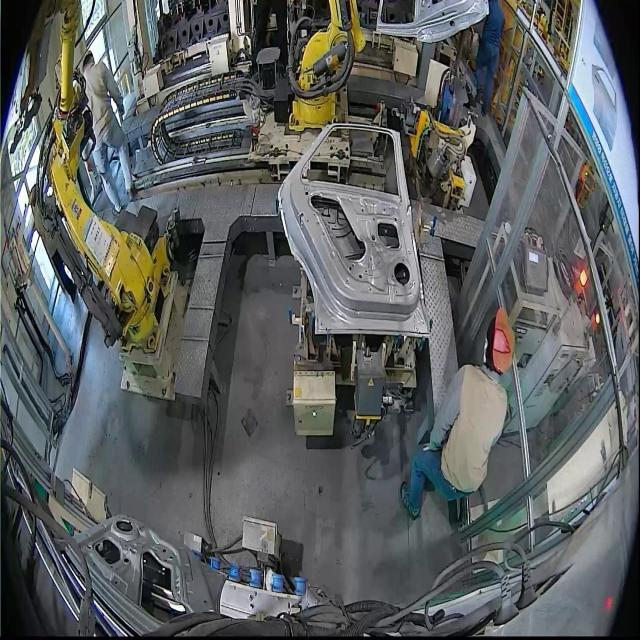Person: (400, 307, 515, 524), (82, 50, 138, 216), (474, 0, 506, 117)
